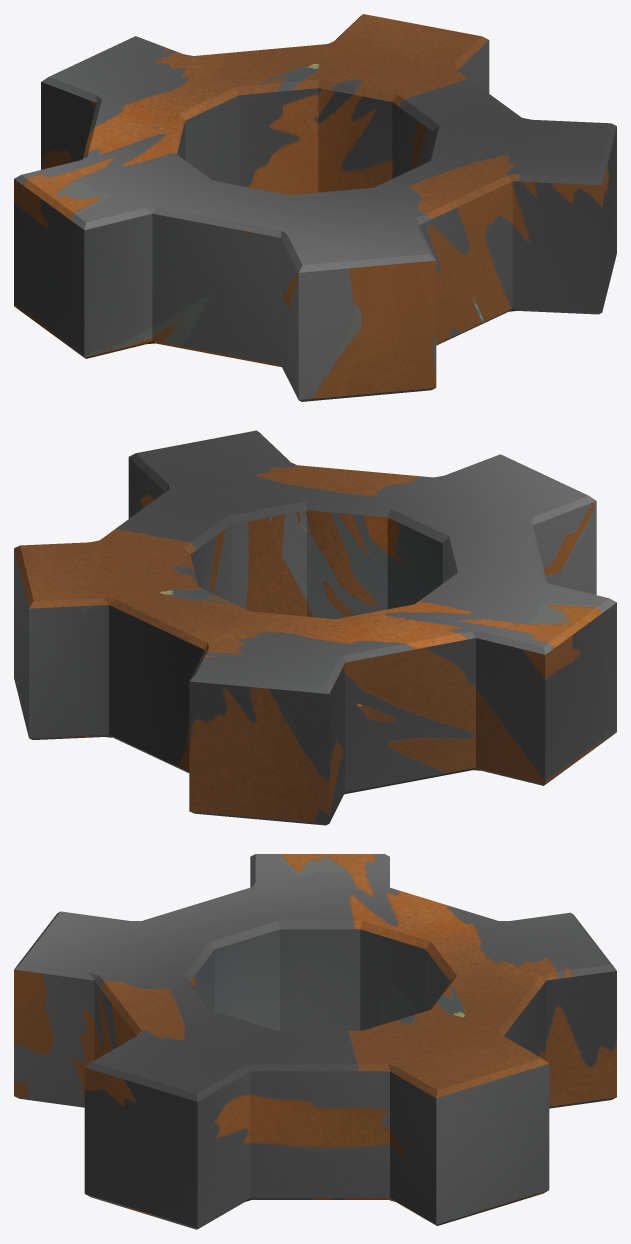
Rendered from Gear.fbx.
3 renders of one model, top to bottom at view 1: azimuth 30°, elevation 25°; view 2: azimuth 150°, elevation 25°; view 3: azimuth 270°, elevation 25°, orthographic. The views are drawn at different scales.
Visible parts, largest first — view 1: Gear; view 2: Gear; view 3: Gear.
Boxes of the visible parts, bbox=[...] form: Gear: bbox=[14, 14, 616, 401]; Gear: bbox=[14, 430, 616, 825]; Gear: bbox=[14, 854, 616, 1229].
Size of the model in its own units: 257 by 65.92 by 267.
